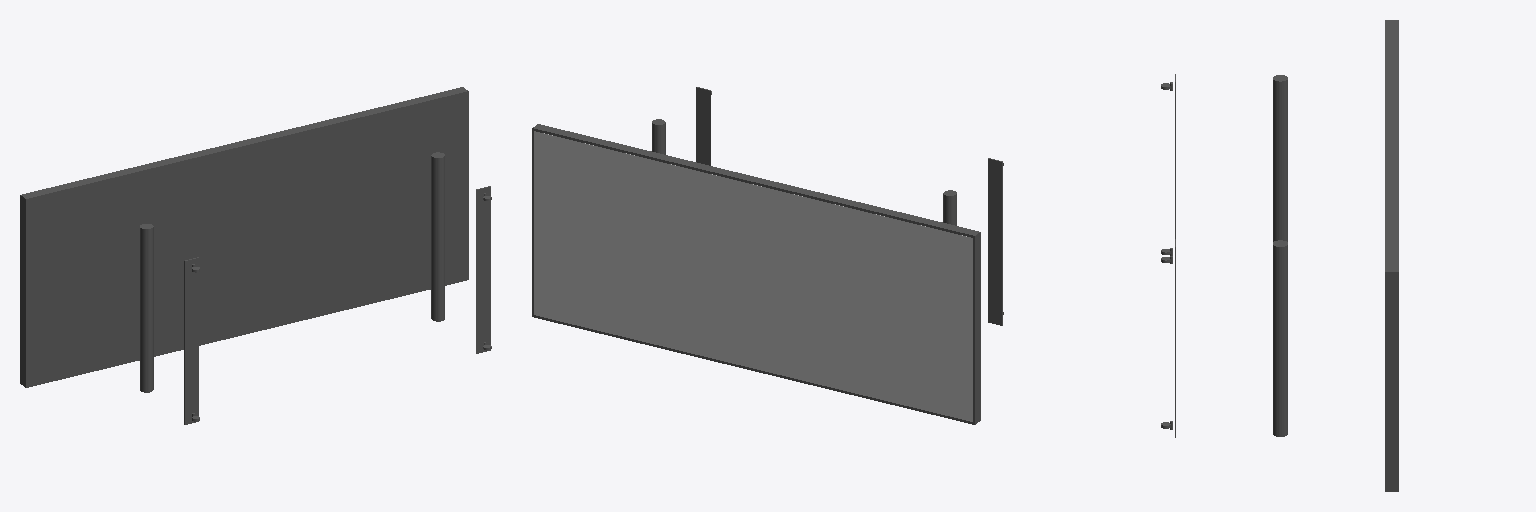
The robot description file, URDF, robot "table":
<robot name="table">
  <link name="base_link">
    <collision>
      <origin xyz="-0.0 0.714 0.0" />
      <geometry>
        <box size="1.8515 0.042 0.741" />
      </geometry>
    </collision>
    <visual>
      <origin xyz="-0.0 0.714 0.0" />
      <material name="c">
        <color rgba="0.8 0.8 0.8 1.0" />
      </material>
      <geometry>
        <box size="1.8515 0.042 0.741" />
      </geometry>
    </visual>
    <collision>
      <origin xyz="0.0 0.7135 0.0" />
      <geometry>
        <box size="1.8635 0.042 0.761" />
      </geometry>
    </collision>
    <visual>
      <origin xyz="0.0 0.7135 0.0" />
      <material name="c">
        <color rgba="0.4 0.4 0.4 1.0" />
      </material>
      <geometry>
        <box size="1.8635 0.042 0.761" />
      </geometry>
    </visual>
    <collision>
      <origin xyz="0.61375 0.364 0.0" />
      <geometry>
        <cylinder length="0.658" radius="0.025" />
      </geometry>
    </collision>
    <visual>
      <origin xyz="0.61375 0.364 0.0" />
      <material name="c">
        <color rgba="0.4 0.4 0.4 1.0" />
      </material>
      <geometry>
        <cylinder length="0.658" radius="0.025" />
      </geometry>
    </visual>
    <collision>
      <origin xyz="-0.61375 0.364 0.0" />
      <geometry>
        <cylinder length="0.658" radius="0.025" />
      </geometry>
    </collision>
    <visual>
      <origin xyz="-0.61375 0.364 0.0" />
      <material name="c">
        <color rgba="0.4 0.4 0.4 1.0" />
      </material>
      <geometry>
        <cylinder length="0.658" radius="0.025" />
      </geometry>
    </visual>
    <collision>
      <origin xyz="0.61375 0.005 0.30" />
      <geometry>
        <cylinder length="0.01" radius="0.015" />
      </geometry>
    </collision>
    <visual>
      <origin xyz="0.61375 0.005 0.30" />
      <material name="c">
        <color rgba="0.4 0.4 0.4 1.0" />
      </material>
      <geometry>
        <cylinder length="0.01" radius="0.015" />
      </geometry>
    </visual>
    <collision>
      <origin xyz="0.61375 0.005 -0.30" />
      <geometry>
        <cylinder length="0.01" radius="0.015" />
      </geometry>
    </collision>
    <visual>
      <origin xyz="0.61375 0.005 -0.30" />
      <material name="c">
        <color rgba="0.4 0.4 0.4 1.0" />
      </material>
      <geometry>
        <cylinder length="0.01" radius="0.015" />
      </geometry>
    </visual>
    <collision>
      <origin xyz="0.61375 0.03525 0.0" />
      <geometry>
        <box size="0.06 0.005 0.66" />
      </geometry>
    </collision>
    <visual>
      <origin xyz="0.61375 0.03525 0.0" />
      <material name="c">
        <color rgba="0.4 0.4 0.4 1.0" />
      </material>
      <geometry>
        <box size="0.06 0.005 0.66" />
      </geometry>
    </visual>
    <collision>
      <origin xyz="0.61375 0.03525 0.0" />
      <geometry>
        <box size="0.06 0.005 0.66" />
      </geometry>
    </collision>
    <visual>
      <origin xyz="0.61375 0.03525 0.0" />
      <material name="c">
        <color rgba="0.4 0.4 0.4 1.0" />
      </material>
      <geometry>
        <box size="0.06 0.005 0.66" />
      </geometry>
    </visual>
    <collision>
      <origin xyz="0.61375 0.0225 0.30" />
      <geometry>
        <cylinder length="0.025" radius="0.005" />
      </geometry>
    </collision>
    <visual>
      <origin xyz="0.61375 0.0225 0.30" />
      <material name="c">
        <color rgba="0.4 0.4 0.4 1.0" />
      </material>
      <geometry>
        <cylinder length="0.025" radius="0.005" />
      </geometry>
    </visual>
    <collision>
      <origin xyz="0.61375 0.0225 -0.30" />
      <geometry>
        <cylinder length="0.025" radius="0.005" />
      </geometry>
    </collision>
    <visual>
      <origin xyz="0.61375 0.0225 -0.30" />
      <material name="c">
        <color rgba="0.4 0.4 0.4 1.0" />
      </material>
      <geometry>
        <cylinder length="0.025" radius="0.005" />
      </geometry>
    </visual>
    <collision>
      <origin xyz="-0.61375 0.005 0.30" />
      <geometry>
        <cylinder length="0.01" radius="0.015" />
      </geometry>
    </collision>
    <visual>
      <origin xyz="-0.61375 0.005 0.30" />
      <material name="c">
        <color rgba="0.4 0.4 0.4 1.0" />
      </material>
      <geometry>
        <cylinder length="0.01" radius="0.015" />
      </geometry>
    </visual>
    <collision>
      <origin xyz="-0.61375 0.005 -0.30" />
      <geometry>
        <cylinder length="0.01" radius="0.015" />
      </geometry>
    </collision>
    <visual>
      <origin xyz="-0.61375 0.005 -0.30" />
      <material name="c">
        <color rgba="0.4 0.4 0.4 1.0" />
      </material>
      <geometry>
        <cylinder length="0.01" radius="0.015" />
      </geometry>
    </visual>
    <collision>
      <origin xyz="-0.61375 0.03525 0.0" />
      <geometry>
        <box size="0.06 0.005 0.66" />
      </geometry>
    </collision>
    <visual>
      <origin xyz="-0.61375 0.03525 0.0" />
      <material name="c">
        <color rgba="0.4 0.4 0.4 1.0" />
      </material>
      <geometry>
        <box size="0.06 0.005 0.66" />
      </geometry>
    </visual>
    <collision>
      <origin xyz="-0.61375 0.03525 0.0" />
      <geometry>
        <box size="0.06 0.005 0.66" />
      </geometry>
    </collision>
    <visual>
      <origin xyz="-0.61375 0.03525 0.0" />
      <material name="c">
        <color rgba="0.4 0.4 0.4 1.0" />
      </material>
      <geometry>
        <box size="0.06 0.005 0.66" />
      </geometry>
    </visual>
    <collision>
      <origin xyz="-0.61375 0.0225 0.30" />
      <geometry>
        <cylinder length="0.025" radius="0.005" />
      </geometry>
    </collision>
    <visual>
      <origin xyz="-0.61375 0.0225 0.30" />
      <material name="c">
        <color rgba="0.4 0.4 0.4 1.0" />
      </material>
      <geometry>
        <cylinder length="0.025" radius="0.005" />
      </geometry>
    </visual>
    <collision>
      <origin xyz="-0.61375 0.0225 -0.30" />
      <geometry>
        <cylinder length="0.025" radius="0.005" />
      </geometry>
    </collision>
    <visual>
      <origin xyz="-0.61375 0.0225 -0.30" />
      <material name="c">
        <color rgba="0.4 0.4 0.4 1.0" />
      </material>
      <geometry>
        <cylinder length="0.025" radius="0.005" />
      </geometry>
    </visual>
  </link>
</robot>

--- What the picture shows (computed from the rendered views, not written in the file) ---
3 views of the same robot in one strip: view 1: azimuth 30°, elevation 25°; view 2: azimuth 150°, elevation 25°; view 3: azimuth 270°, elevation 25° (orthographic).
Model table with 1 links and 0 joints (none), rooted at base_link, posed all joints at 0.
Visible links, largest first — view 1: base_link; view 2: base_link; view 3: base_link.
Boxes of the visible links, x1=… form: base_link: x1=20, y1=87, x2=491, y2=424; base_link: x1=532, y1=87, x2=1003, y2=424; base_link: x1=1161, y1=20, x2=1398, y2=491.
Size in the robot's own frame: 1.86 by 0.745 by 0.761 metres.
Geometry: primitives only (box / cylinder / sphere), no mesh files.